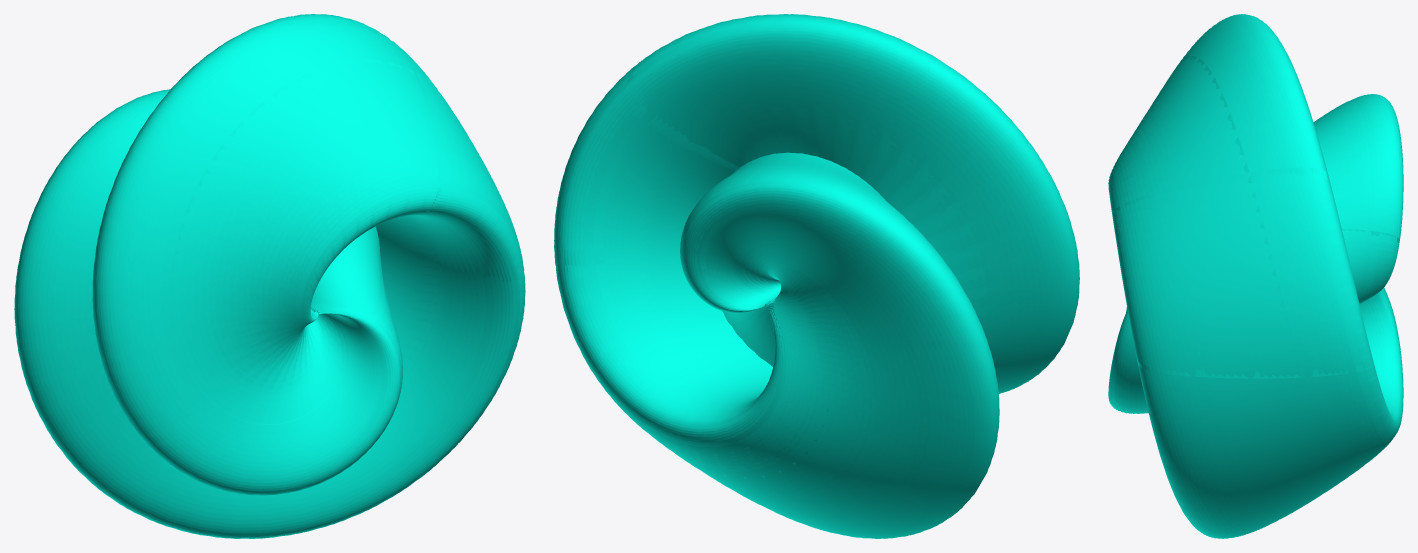
The model's file is uuon-klein-bottle-4d.glb.
3 views of the same model, side by side, from view 1: azimuth 30°, elevation 25°; view 2: azimuth 150°, elevation 25°; view 3: azimuth 270°, elevation 25° (orthographic). The views are drawn at different scales.
Parts seen in each view (by area): view 1: klein_bottle_4d_solid; view 2: klein_bottle_4d_solid; view 3: klein_bottle_4d_solid.
Part boxes in pixels (box(x1,y1,x2,y2)): klein_bottle_4d_solid: box(14, 14, 525, 538); klein_bottle_4d_solid: box(554, 14, 1079, 538); klein_bottle_4d_solid: box(1108, 14, 1403, 538).
Size of the model in its own units: 4.03 by 4.49 by 2.5.
